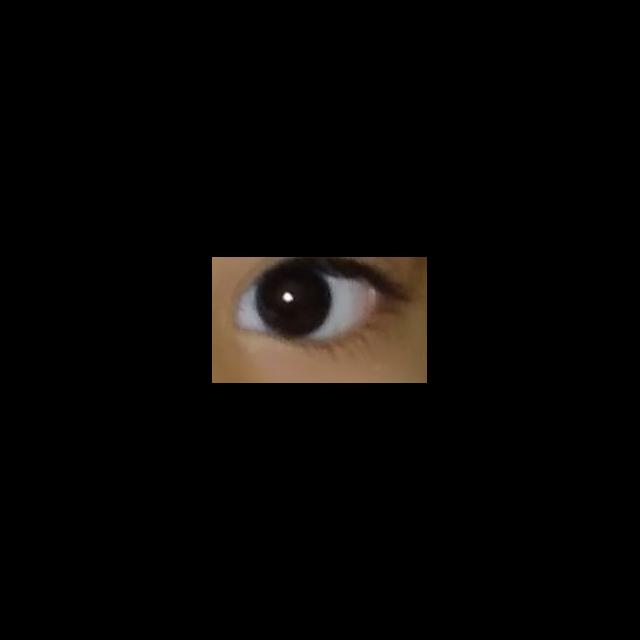eye: (239, 261, 375, 340)
iris: (257, 263, 330, 339)
